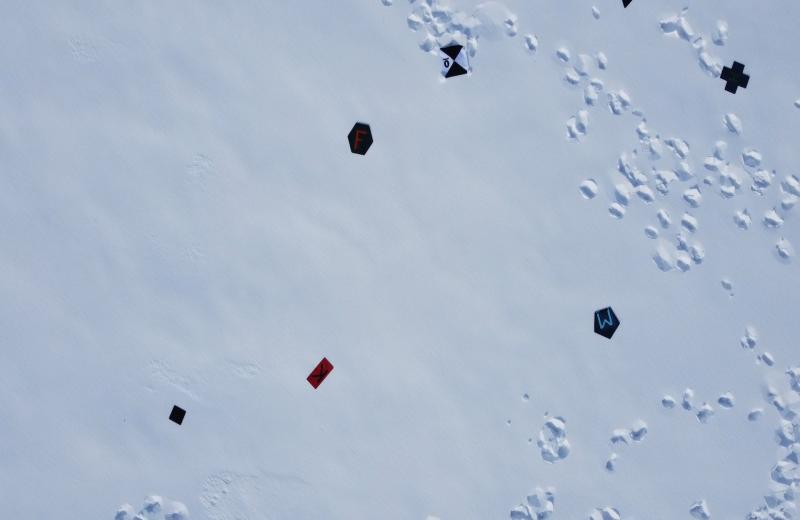Cross: (720, 61, 752, 95)
Hexagon: (344, 122, 375, 156)
Pentagon: (591, 306, 620, 340)
Rectangle: (307, 355, 337, 389)
Square: (168, 401, 186, 426)
